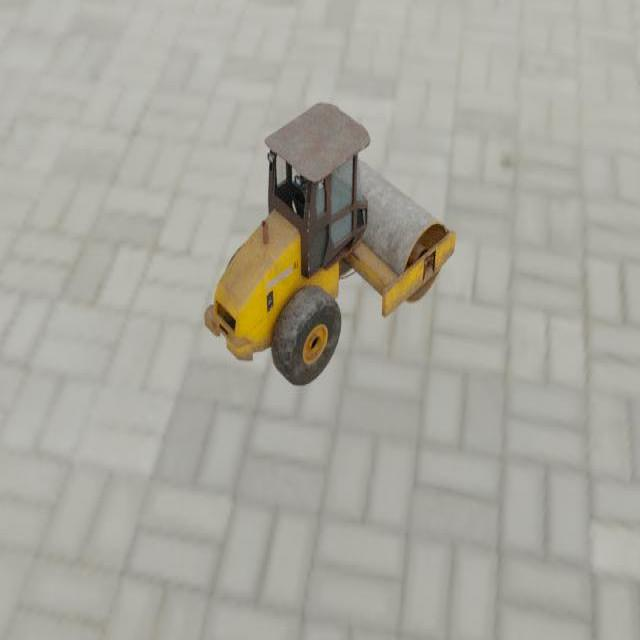Roller: (203, 101, 456, 387)
